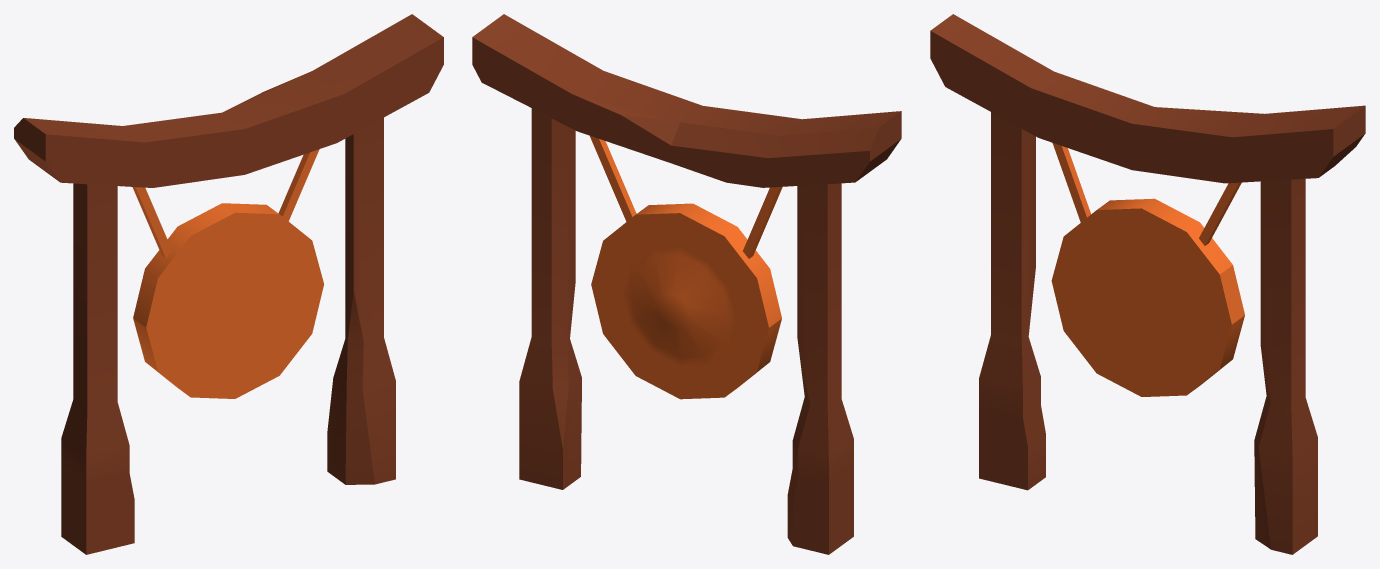
File: Gong.FBX
3 renders of one model, left to right at view 1: azimuth 30°, elevation 25°; view 2: azimuth 150°, elevation 25°; view 3: azimuth 330°, elevation 25°, orthographic.
Visible parts, largest first — view 1: Gong; view 2: Gong; view 3: Gong.
Boxes of the visible parts, bbox=[...] form: Gong: bbox=[14, 14, 443, 554]; Gong: bbox=[472, 14, 901, 554]; Gong: bbox=[930, 14, 1365, 554].
Bounding box in the file's own units: 59.82 × 62.33 × 8.25.
